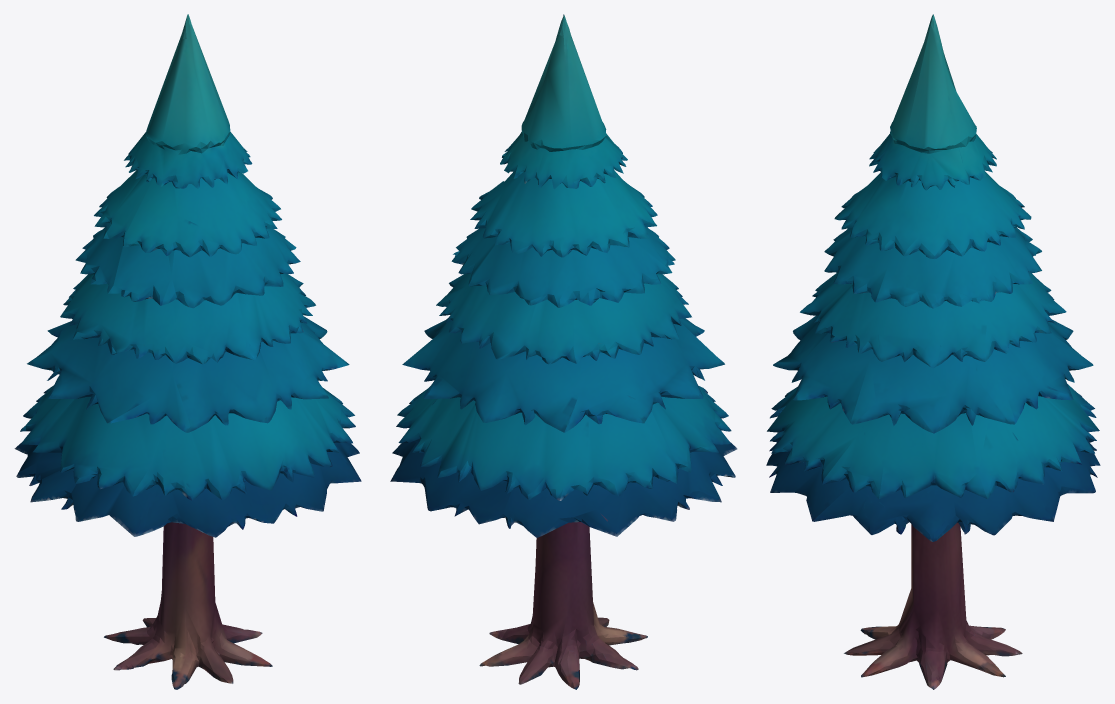
File: pine.glb
The picture shows the model from 3 angles, left to right: view 1: azimuth 30°, elevation 25°; view 2: azimuth 150°, elevation 25°; view 3: azimuth 270°, elevation 25°; orthographic projection.
Visible parts, largest first — view 1: Rodin_pine; view 2: Rodin_pine; view 3: Rodin_pine.
Boxes of the visible parts, bbox=[...] form: Rodin_pine: bbox=[14, 14, 361, 689]; Rodin_pine: bbox=[390, 14, 737, 689]; Rodin_pine: bbox=[766, 14, 1100, 689].
Bounding box in the file's own units: 0.9844 × 1.9 × 0.901.
Materials: 1 (1 with a texture image).
